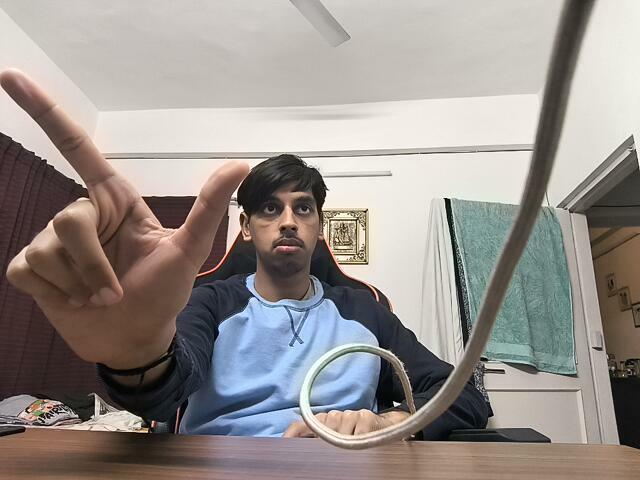UP: (0, 61, 248, 389)
